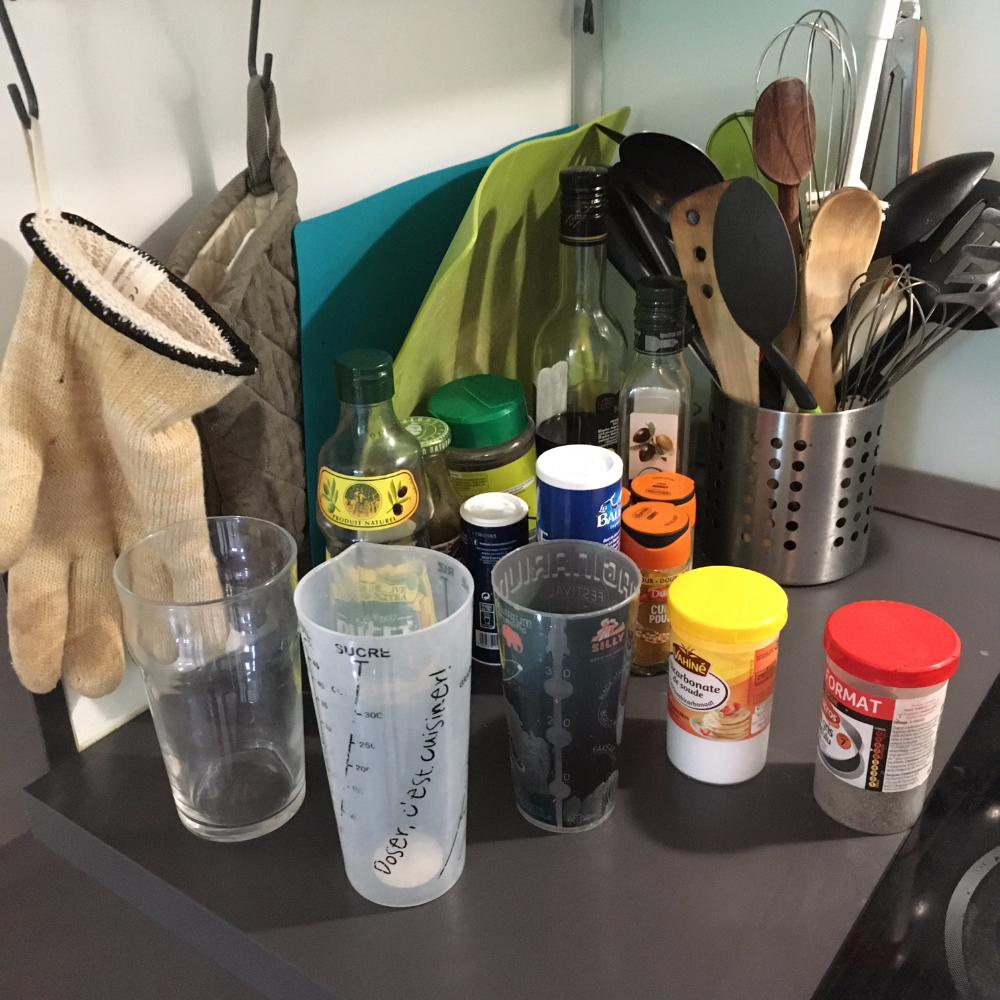ecocup: (490, 539, 643, 834)
